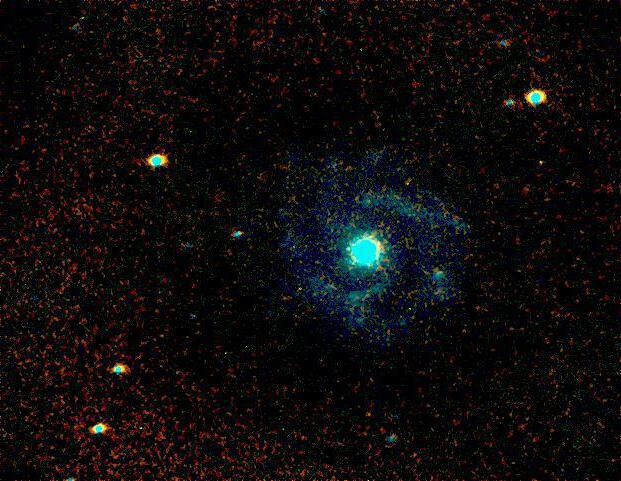star: (335, 232, 365, 262)
